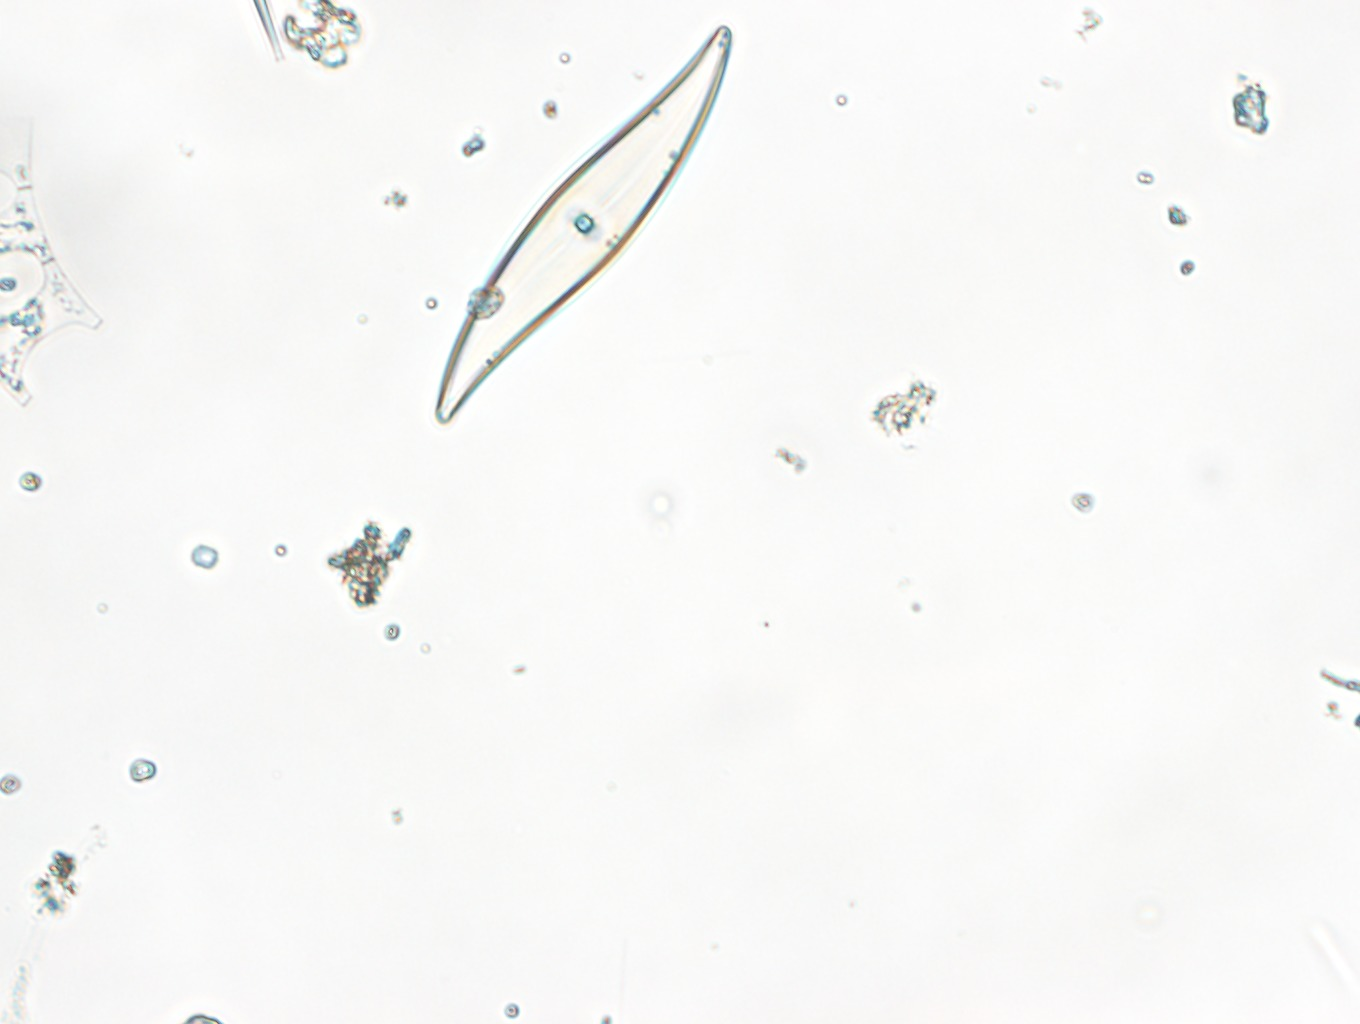pleurosigma pelagicum: (431, 24, 733, 424)
